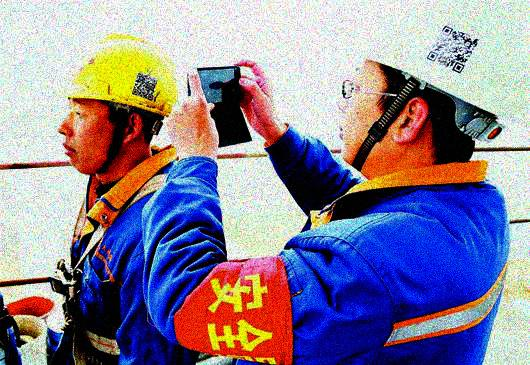helmet: (335, 9, 530, 170), (57, 35, 181, 183)
